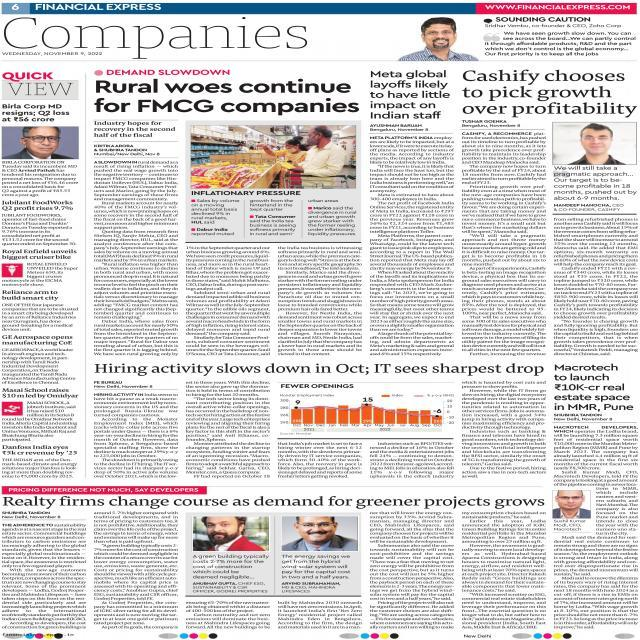Article: (370, 66, 639, 360), (4, 484, 548, 629), (92, 70, 363, 356), (86, 361, 548, 482), (554, 363, 639, 630), (1, 100, 77, 198), (0, 388, 77, 444), (0, 198, 81, 248), (0, 333, 75, 384), (0, 287, 81, 332), (0, 248, 80, 287), (0, 442, 80, 478)
Body: (460, 132, 547, 356), (368, 136, 456, 357), (92, 160, 180, 357), (553, 217, 640, 356), (368, 510, 456, 630), (460, 510, 548, 630), (92, 510, 178, 630), (276, 245, 363, 356), (185, 246, 272, 356), (1, 522, 87, 630), (184, 380, 272, 478), (552, 535, 640, 630), (461, 381, 547, 478), (92, 392, 180, 479), (553, 424, 640, 486), (0, 400, 79, 442), (276, 441, 364, 478), (368, 442, 456, 478), (1, 160, 81, 198), (1, 348, 77, 384), (184, 600, 272, 630), (276, 600, 364, 630), (0, 212, 77, 246), (0, 303, 80, 332), (595, 486, 640, 535), (1, 262, 80, 286), (0, 456, 80, 479), (307, 206, 358, 236), (190, 198, 240, 224), (248, 214, 298, 237), (248, 198, 294, 212), (190, 226, 237, 236)
Date: (1, 51, 104, 56)
Heading: (92, 78, 362, 117), (461, 68, 637, 119), (1, 496, 545, 510), (90, 361, 544, 377), (367, 70, 451, 120), (552, 364, 636, 412), (1, 104, 72, 122), (0, 388, 81, 400), (2, 248, 78, 260), (0, 199, 75, 211), (1, 334, 74, 346), (1, 445, 78, 456), (1, 288, 59, 302)
Highlights: (481, 16, 637, 56), (190, 554, 272, 593), (552, 165, 638, 201), (280, 553, 353, 594), (93, 120, 179, 138), (280, 383, 355, 389)
Image: (192, 125, 356, 188), (280, 393, 454, 432), (397, 16, 479, 61), (554, 122, 636, 164), (192, 516, 269, 552), (282, 516, 358, 552), (4, 128, 76, 160), (554, 491, 590, 518)
Name: (2, 15, 311, 50), (34, 3, 164, 11)
